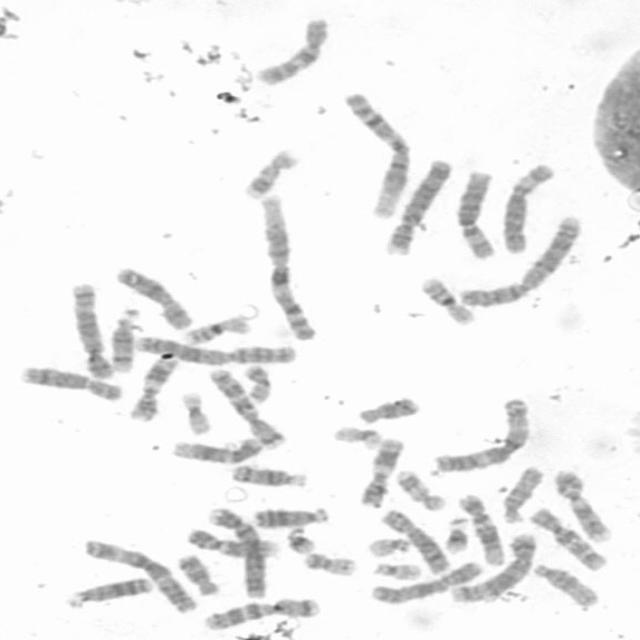A1: (339, 87, 416, 221), (253, 189, 320, 343)
A2: (455, 211, 585, 310), (131, 331, 299, 366)
A3: (77, 533, 201, 615), (429, 392, 533, 472)
B4: (380, 152, 454, 256), (204, 503, 272, 599)
B5: (446, 528, 540, 604), (65, 277, 115, 380)
C10: (250, 12, 333, 88), (524, 502, 611, 572)
C11: (124, 350, 181, 423), (354, 434, 406, 508)
C12: (455, 489, 509, 568), (168, 432, 269, 465)
C6: (496, 157, 559, 255), (450, 165, 499, 259)
C7: (204, 362, 288, 450), (198, 593, 324, 632)
C8: (374, 505, 452, 575), (13, 359, 126, 403)
C9: (548, 464, 614, 544), (181, 522, 285, 560)
D13: (59, 573, 153, 609), (248, 502, 332, 530)
D14: (105, 304, 143, 375), (226, 460, 310, 489)
D15: (530, 560, 603, 608), (496, 461, 545, 524)
E16: (417, 272, 479, 326), (178, 311, 254, 346)
E17: (238, 144, 300, 201), (391, 465, 448, 512)
E18: (173, 548, 225, 597), (353, 392, 422, 425)
F19: (177, 386, 214, 436), (328, 422, 386, 451)
F20: (298, 546, 360, 578), (238, 360, 275, 405)
G21: (439, 513, 472, 555), (282, 523, 320, 555)
G22: (368, 557, 424, 581), (363, 532, 413, 558)
X: (110, 262, 196, 331), (366, 556, 485, 605)
